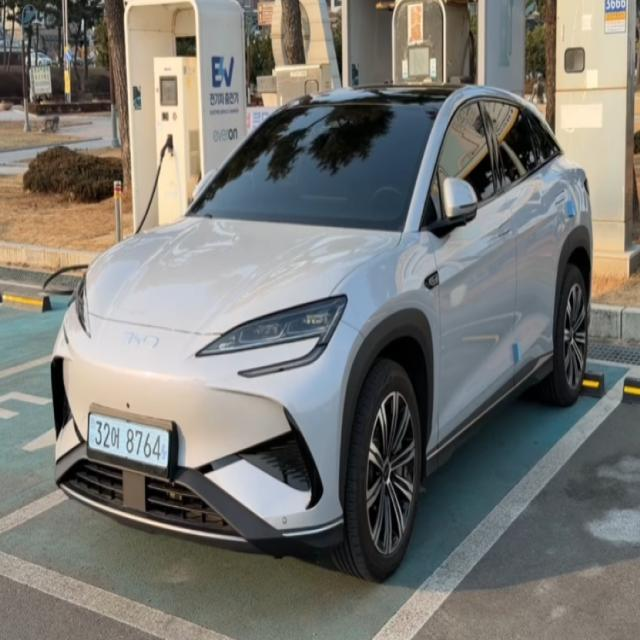car: (77, 395, 194, 480)
carev: (158, 424, 173, 473), (84, 407, 95, 457)
